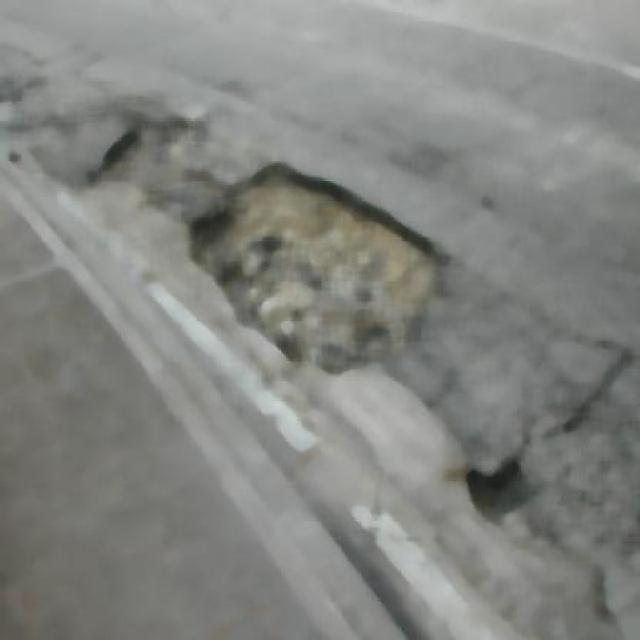Pothole: (188, 153, 442, 384), (98, 111, 214, 211)
